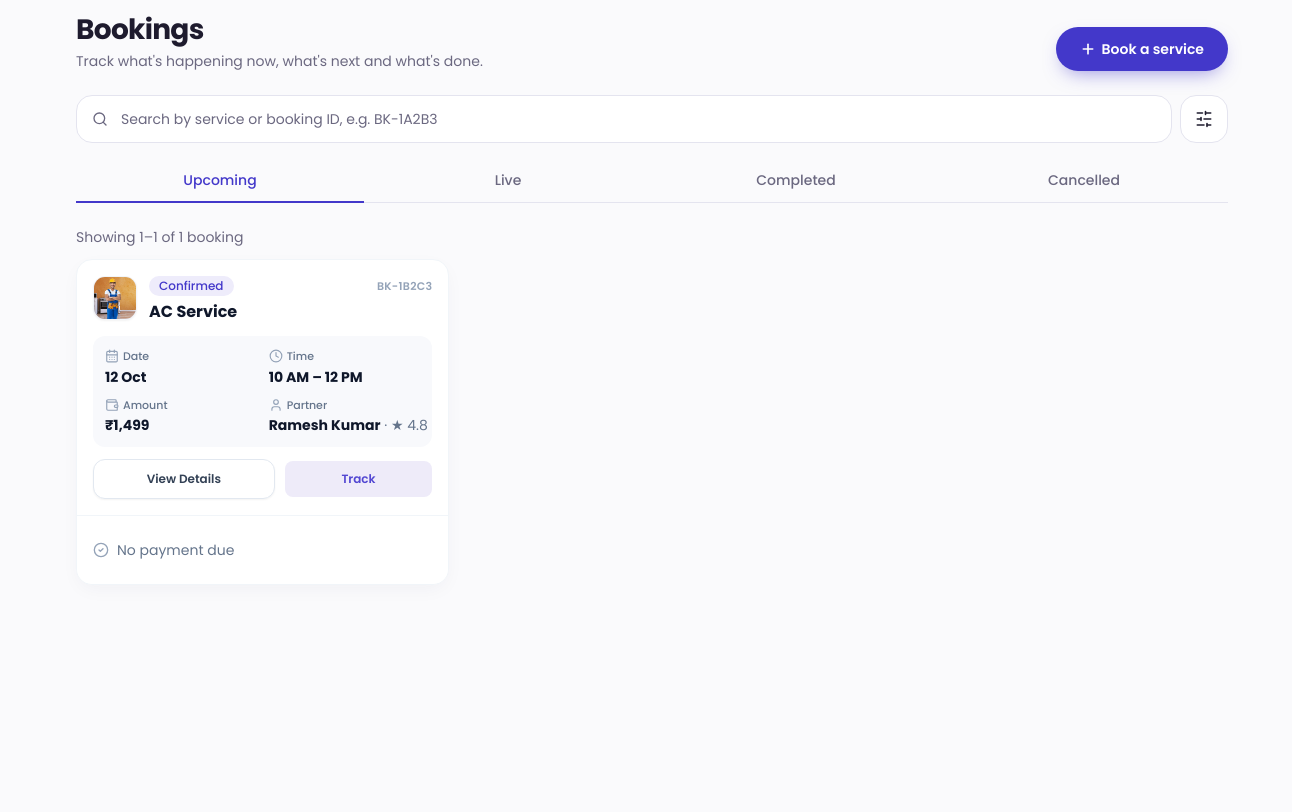
Test case: My Bookings page › switches tabs and re-queries with that tab
Expected: the element that starts with "Confirmed" is shown, top-left (76, 259), bottom-right (449, 585)
Step 1. Click the tab "Completed" → (796, 181), box top-left (652, 159), bottom-right (940, 203)
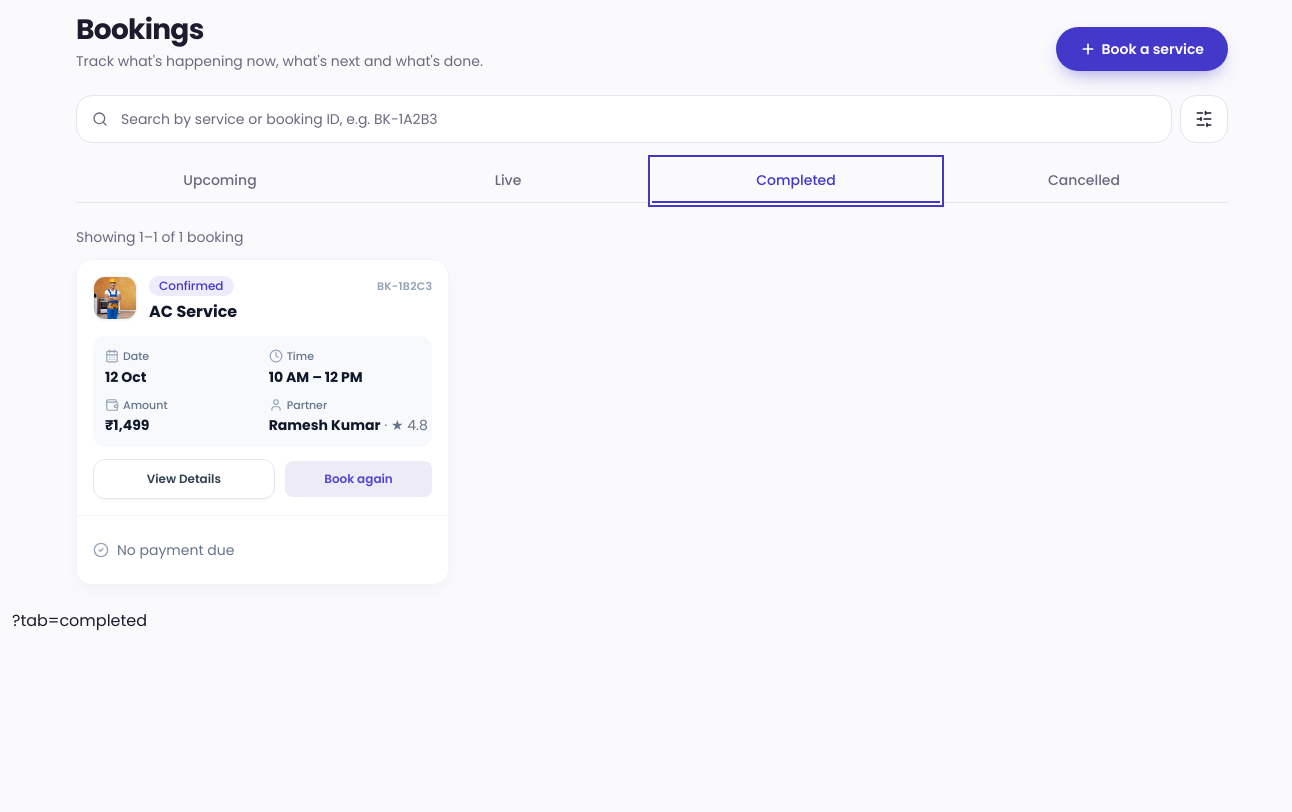
Now the text with test id "search" shows "tab=completed", box top-left (12, 609), bottom-right (147, 632)
